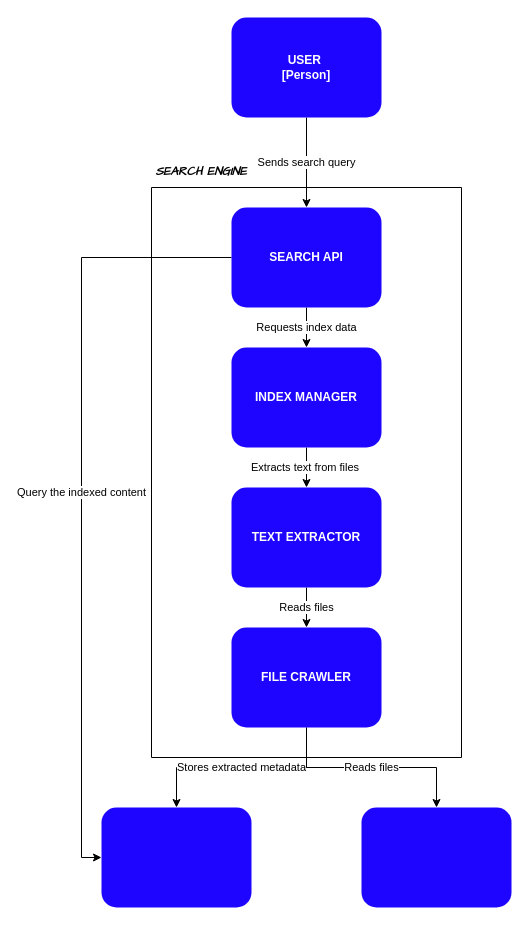
Image size: 529x925. Some labels were removed from this diagram. The shapes that lost their labels are listed below. From the top down, each one's centre as x and y in pixels, then its label:
the point at 176,857: POSTGRESQL DATABASE
the point at 436,857: FILE SYSTEM
